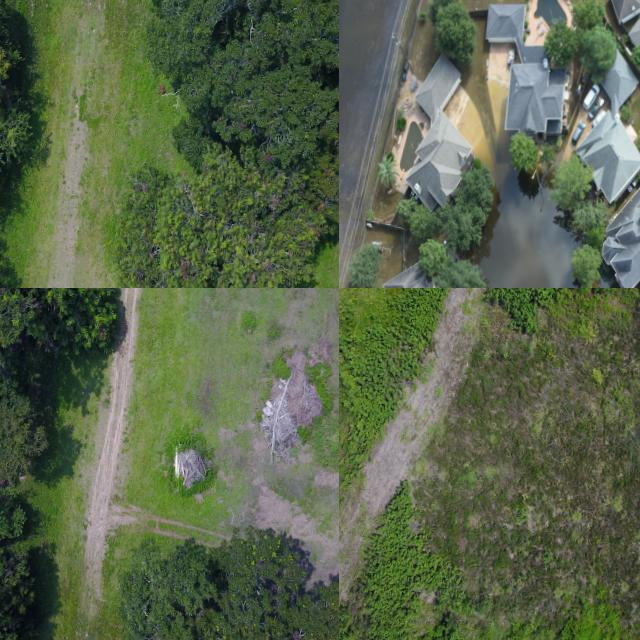fire: (342, 0, 640, 288)
